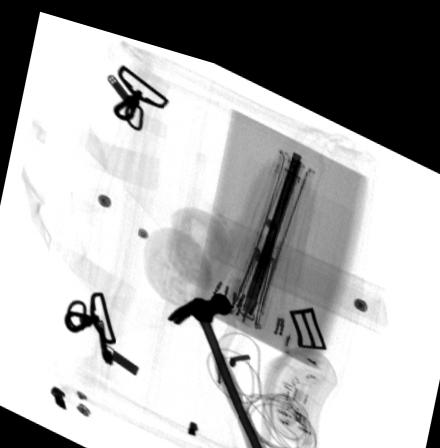Hammer: (166, 278, 270, 446)
